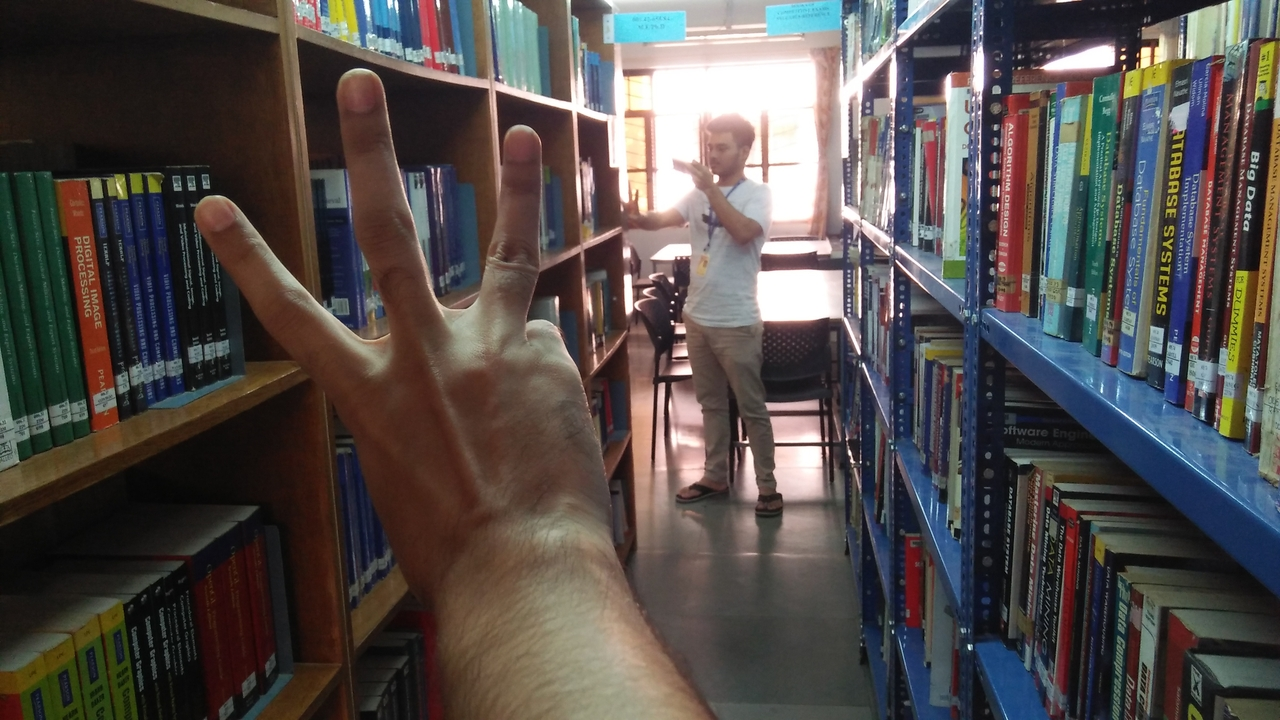fingertip: (178, 188, 238, 242), (328, 64, 386, 118), (494, 120, 544, 170)
